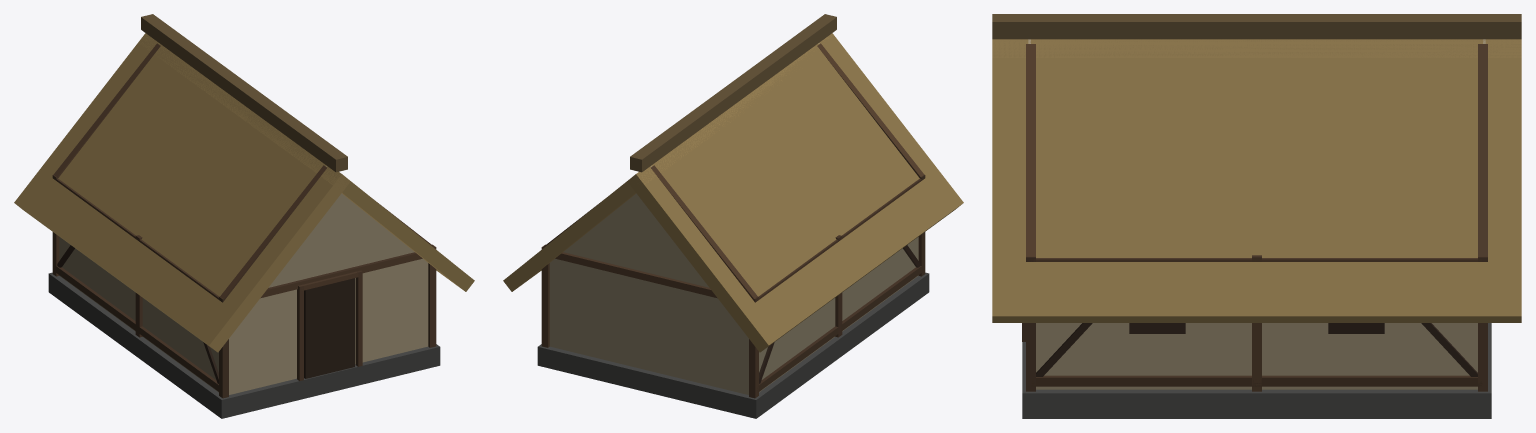
Rendered from cottage.glb.
The picture shows the model from 3 angles, left to right: view 1: azimuth 30°, elevation 25°; view 2: azimuth 150°, elevation 25°; view 3: azimuth 270°, elevation 25°; orthographic projection. The views are drawn at different scales.
Visible parts, largest first — view 1: cottage; view 2: cottage; view 3: cottage.
Boxes of the visible parts, left/top/right/bottom form: cottage: left=14, top=14, right=474, bottom=418; cottage: left=503, top=14, right=963, bottom=418; cottage: left=992, top=14, right=1521, bottom=418.
Bounding box in the file's own units: 5.9 × 5.13 × 7.5.
1 material, 1 textured.
